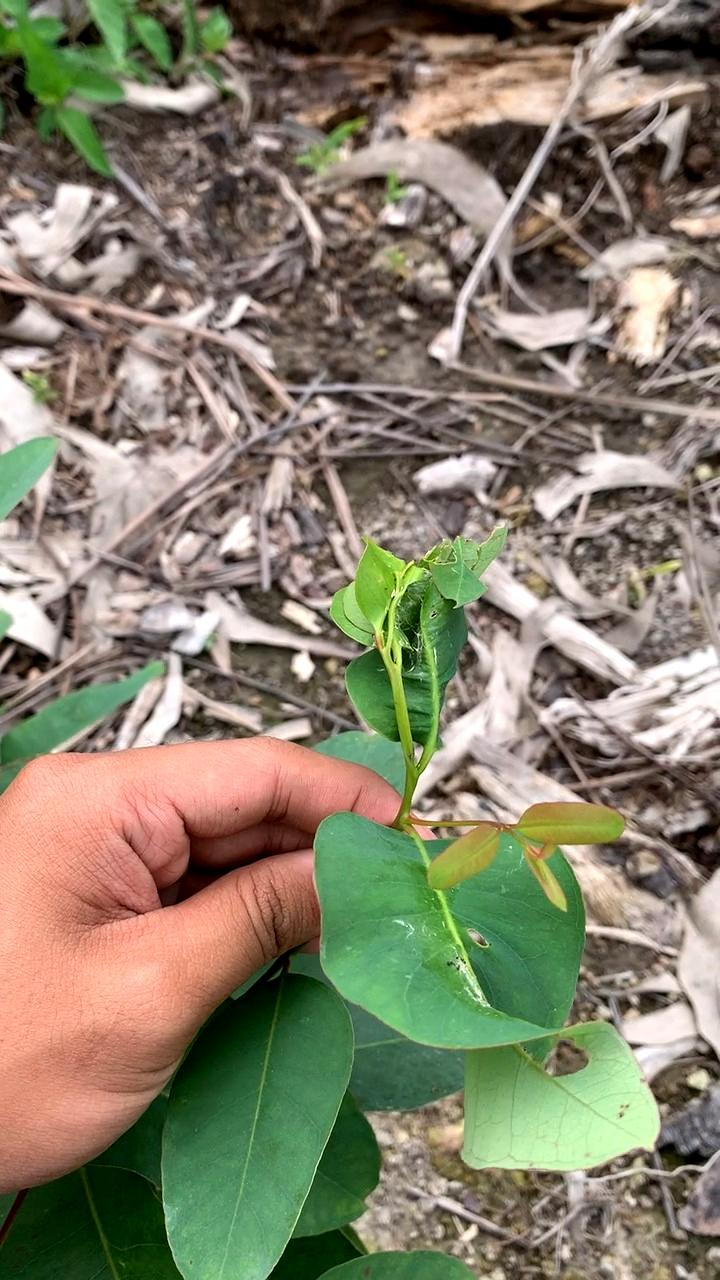Leaf Roller - Leaf: (338, 521, 507, 765)
